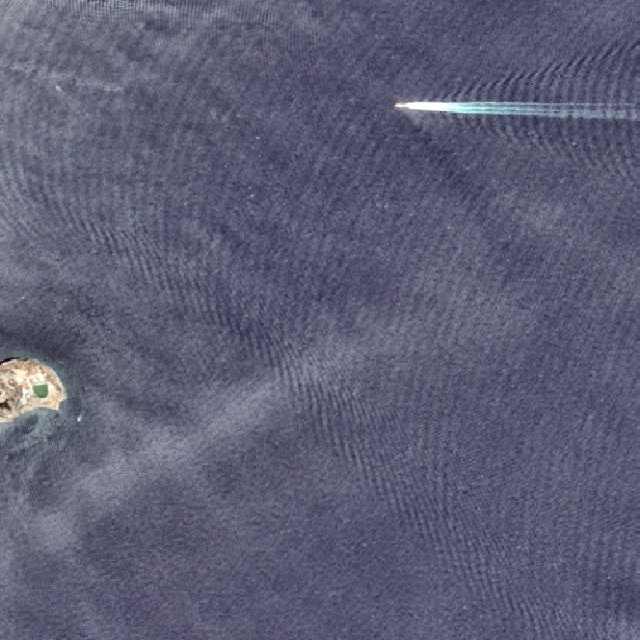wake: (391, 45, 622, 170)
